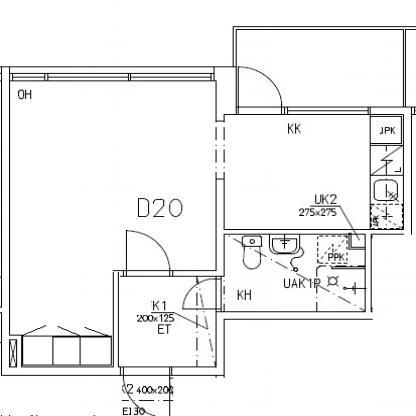bathroom: (221, 231, 371, 315)
door: (120, 365, 180, 416), (117, 227, 174, 278), (232, 64, 283, 118), (181, 277, 230, 312)
perimeter: (0, 68, 410, 370)
window: (8, 66, 218, 86), (283, 103, 374, 121)
